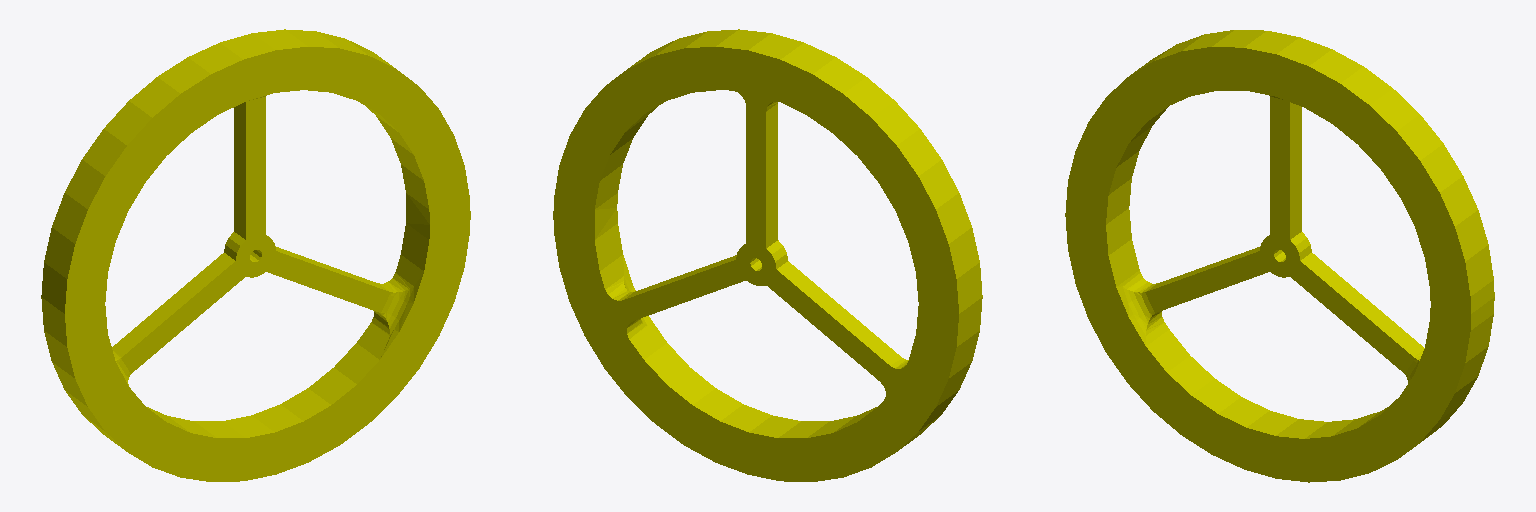
File: react_wheel.obj
3 renders of one model, left to right at view 1: azimuth 30°, elevation 25°; view 2: azimuth 150°, elevation 25°; view 3: azimuth 330°, elevation 25°, orthographic.
Parts seen in each view (by area): view 1: react_wheel; view 2: react_wheel; view 3: react_wheel.
Boxes of the visible parts, x1=… form: react_wheel: x1=41, y1=29, x2=470, y2=481; react_wheel: x1=553, y1=29, x2=982, y2=481; react_wheel: x1=1065, y1=30, x2=1494, y2=482.
Bounding box in the file's own units: 10 × 9.99 × 1.